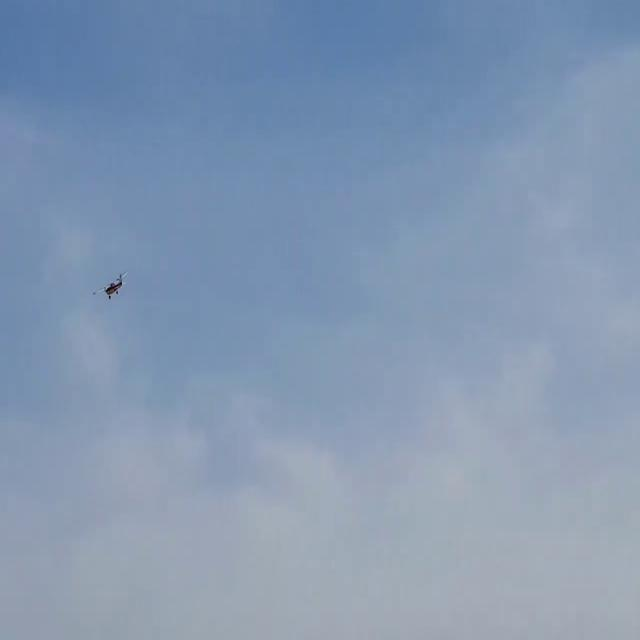iha: (31, 270, 62, 305)
